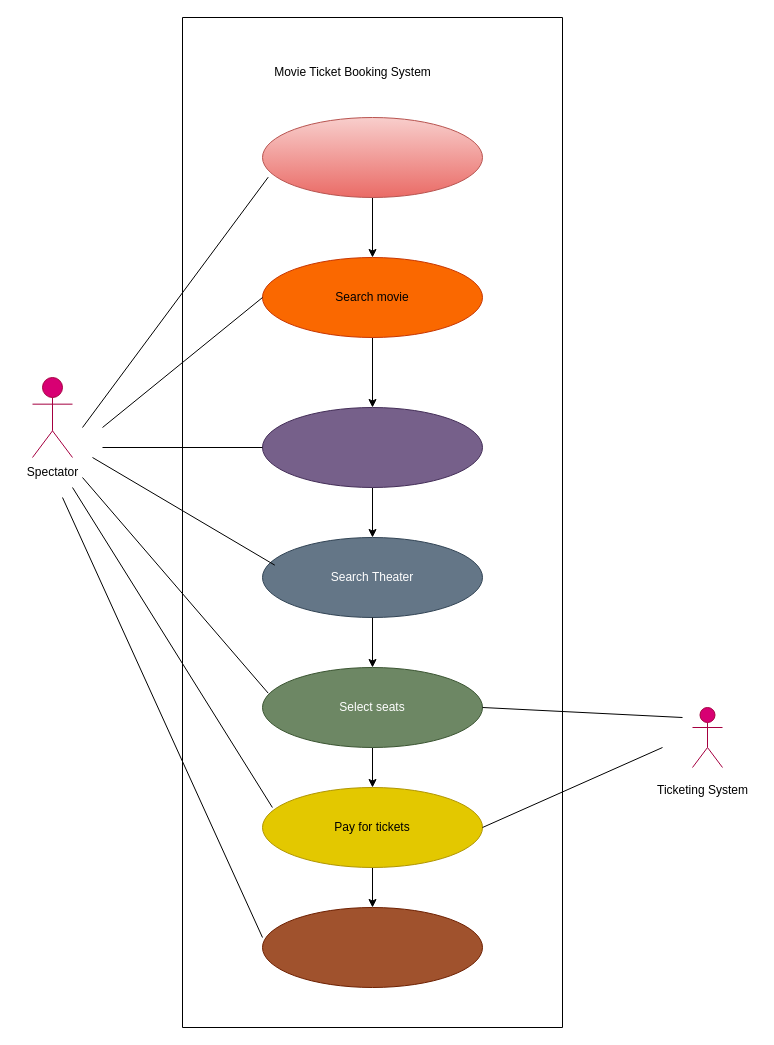
This 774x1045 diagram has some shape labels left out. The shapes that lost their labels are listed below. From the top down, each one's box as (x1, y1, x2, y2) in pixels, then its label:
(262, 116, 482, 198): Login
(262, 406, 482, 488): View Movie Details
(262, 906, 482, 988): Cancel Booking
